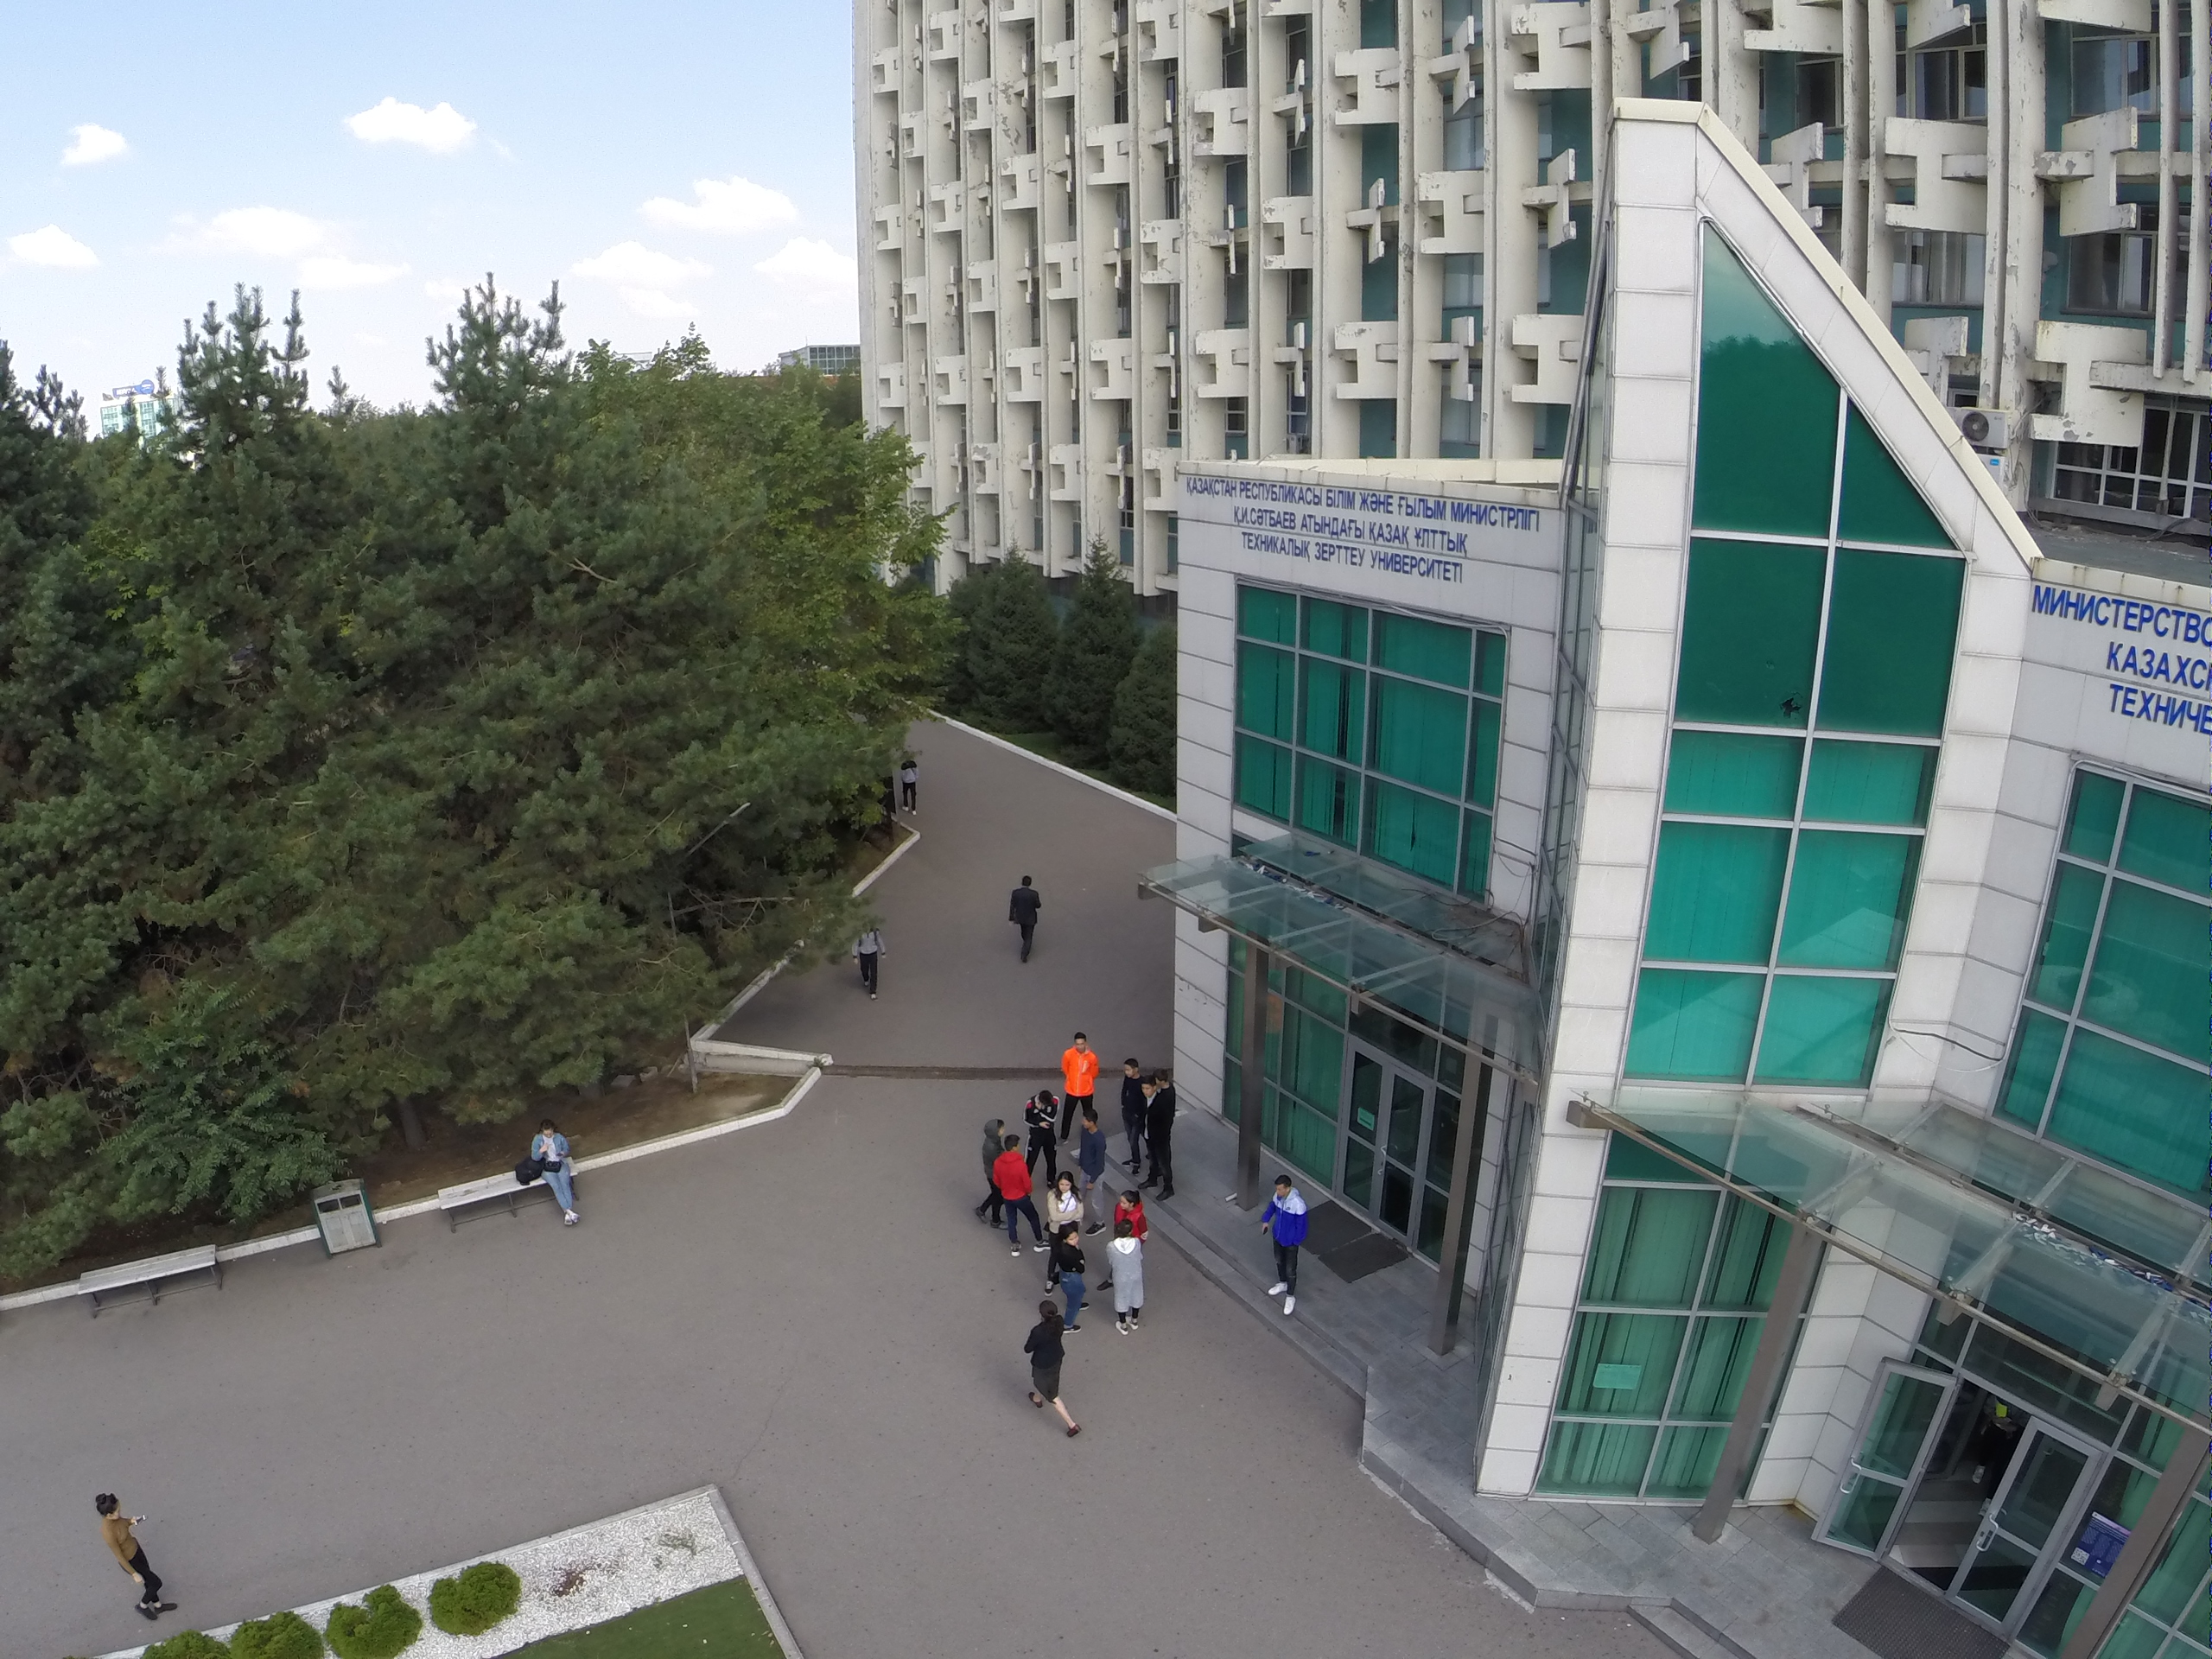person: (92, 1491, 175, 1625), (1020, 1296, 1080, 1441), (1256, 1173, 1306, 1319), (528, 1116, 582, 1232), (1000, 1133, 1045, 1252), (1109, 1219, 1147, 1339), (1142, 1079, 1179, 1198), (1053, 1229, 1090, 1336), (1111, 1052, 1142, 1175), (977, 1118, 1006, 1229), (1061, 1033, 1099, 1112), (1027, 1090, 1060, 1172), (1010, 875, 1040, 969), (854, 923, 887, 1003), (1051, 1173, 1084, 1223), (900, 757, 920, 817)
